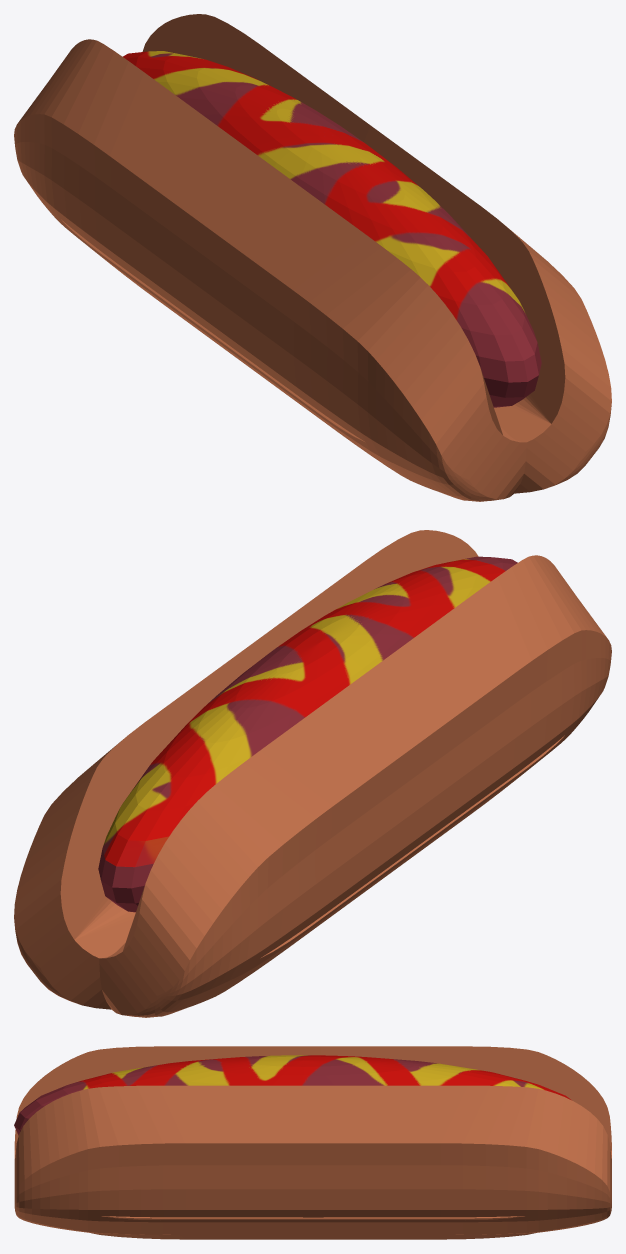
File: hot_dog.glb
3 renders of one model, top to bottom at view 1: azimuth 30°, elevation 25°; view 2: azimuth 150°, elevation 25°; view 3: azimuth 270°, elevation 25°, orthographic. The views are drawn at different scales.
Parts seen in each view (by area): view 1: Cube, Sphere; view 2: Cube, Sphere; view 3: Cube, Sphere.
Boxes of the visible parts, x1,y1,x2,y2 form: Cube: [14, 14, 611, 501]; Sphere: [123, 51, 541, 407]; Cube: [14, 530, 611, 1017]; Sphere: [98, 556, 517, 912]; Cube: [14, 1046, 611, 1239]; Sphere: [14, 1055, 571, 1135].
Bounding box in the file's own units: 2.69 × 2.69 × 8.97.
2 materials, 1 textured.
